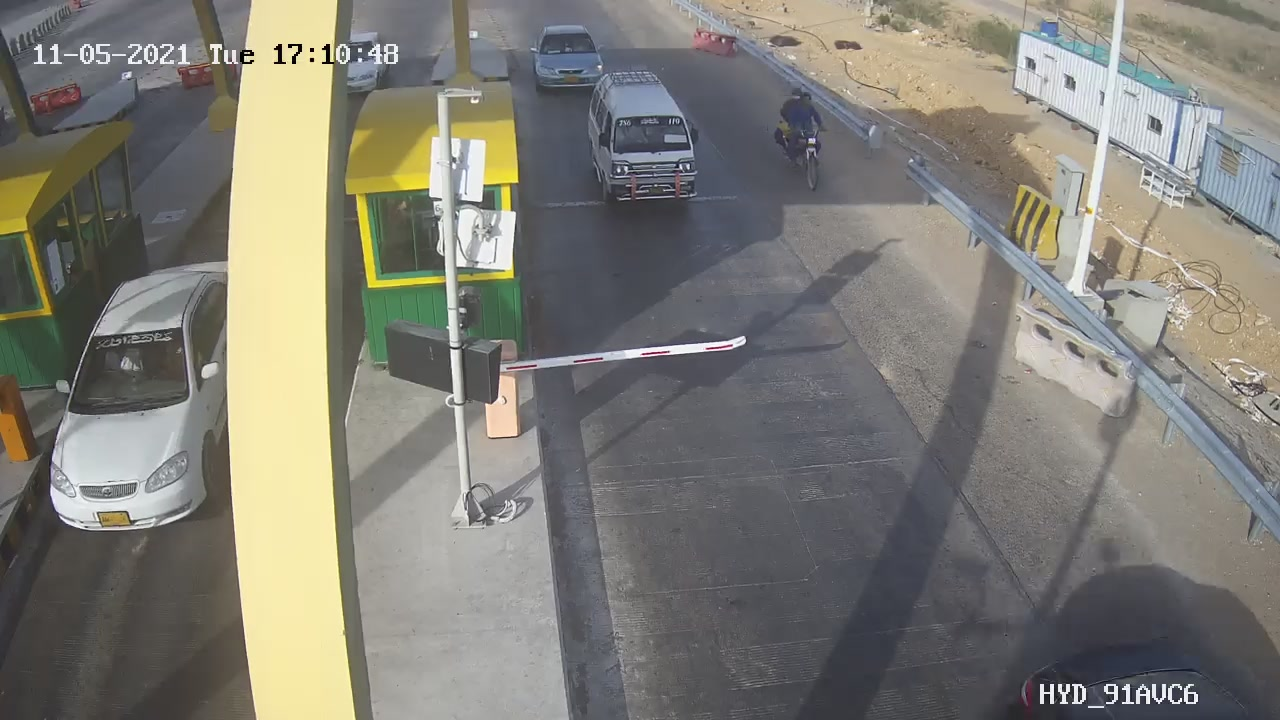F1: (566, 59, 720, 220), (517, 12, 622, 107)
